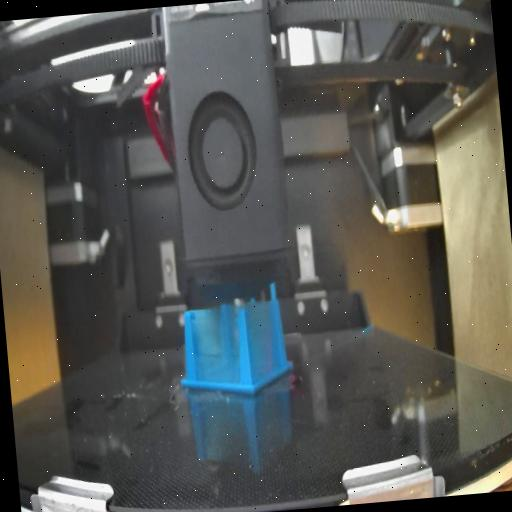stringing: (189, 308, 242, 393), (246, 300, 279, 384)
